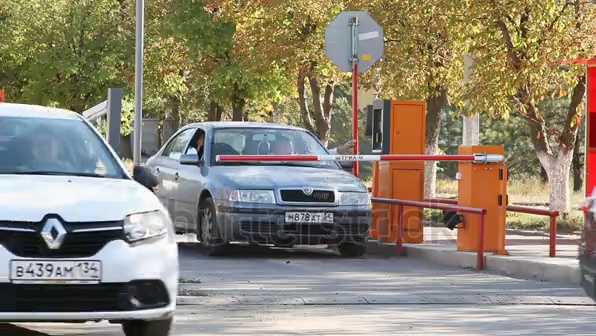licenseplate: (6, 256, 103, 284), (281, 206, 333, 229)
